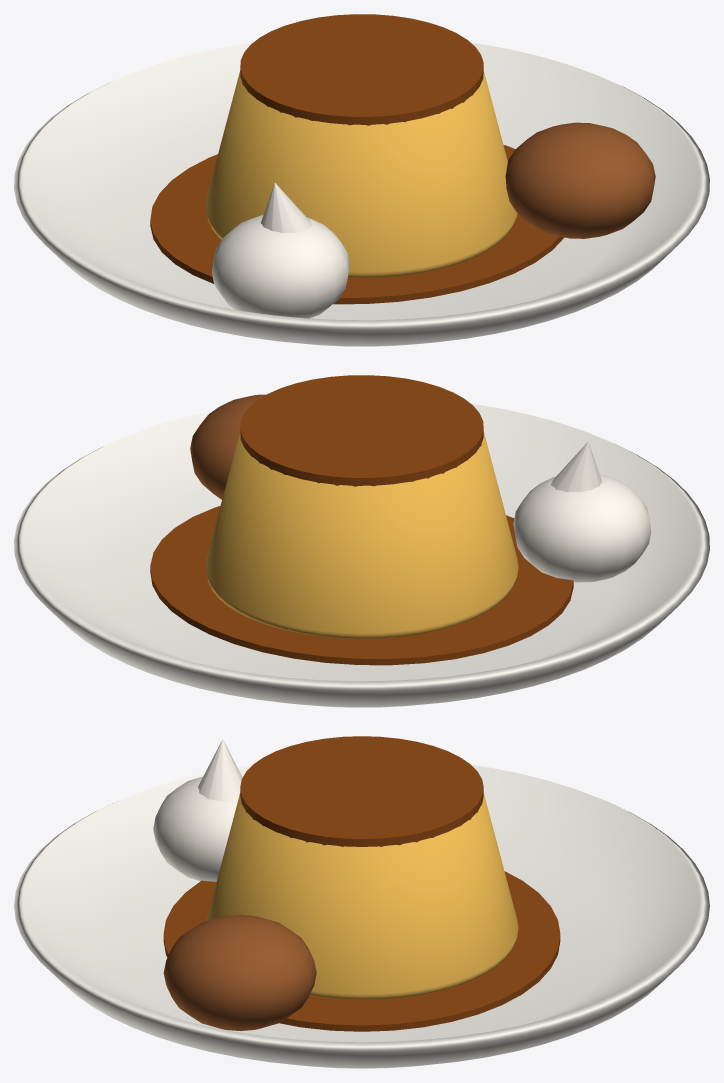
File: flan.glb
3 views of the same model, one above another, from view 1: azimuth 30°, elevation 25°; view 2: azimuth 150°, elevation 25°; view 3: azimuth 270°, elevation 25° (orthographic).
Size of the model in its own units: 0.2 by 0.0565 by 0.2.
